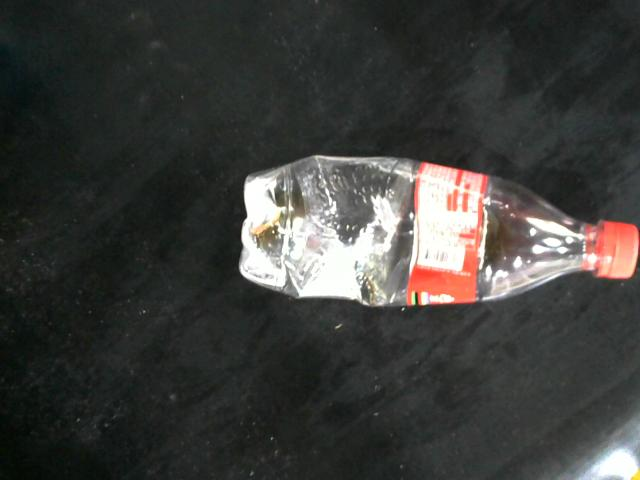bottle: (238, 154, 640, 307)
